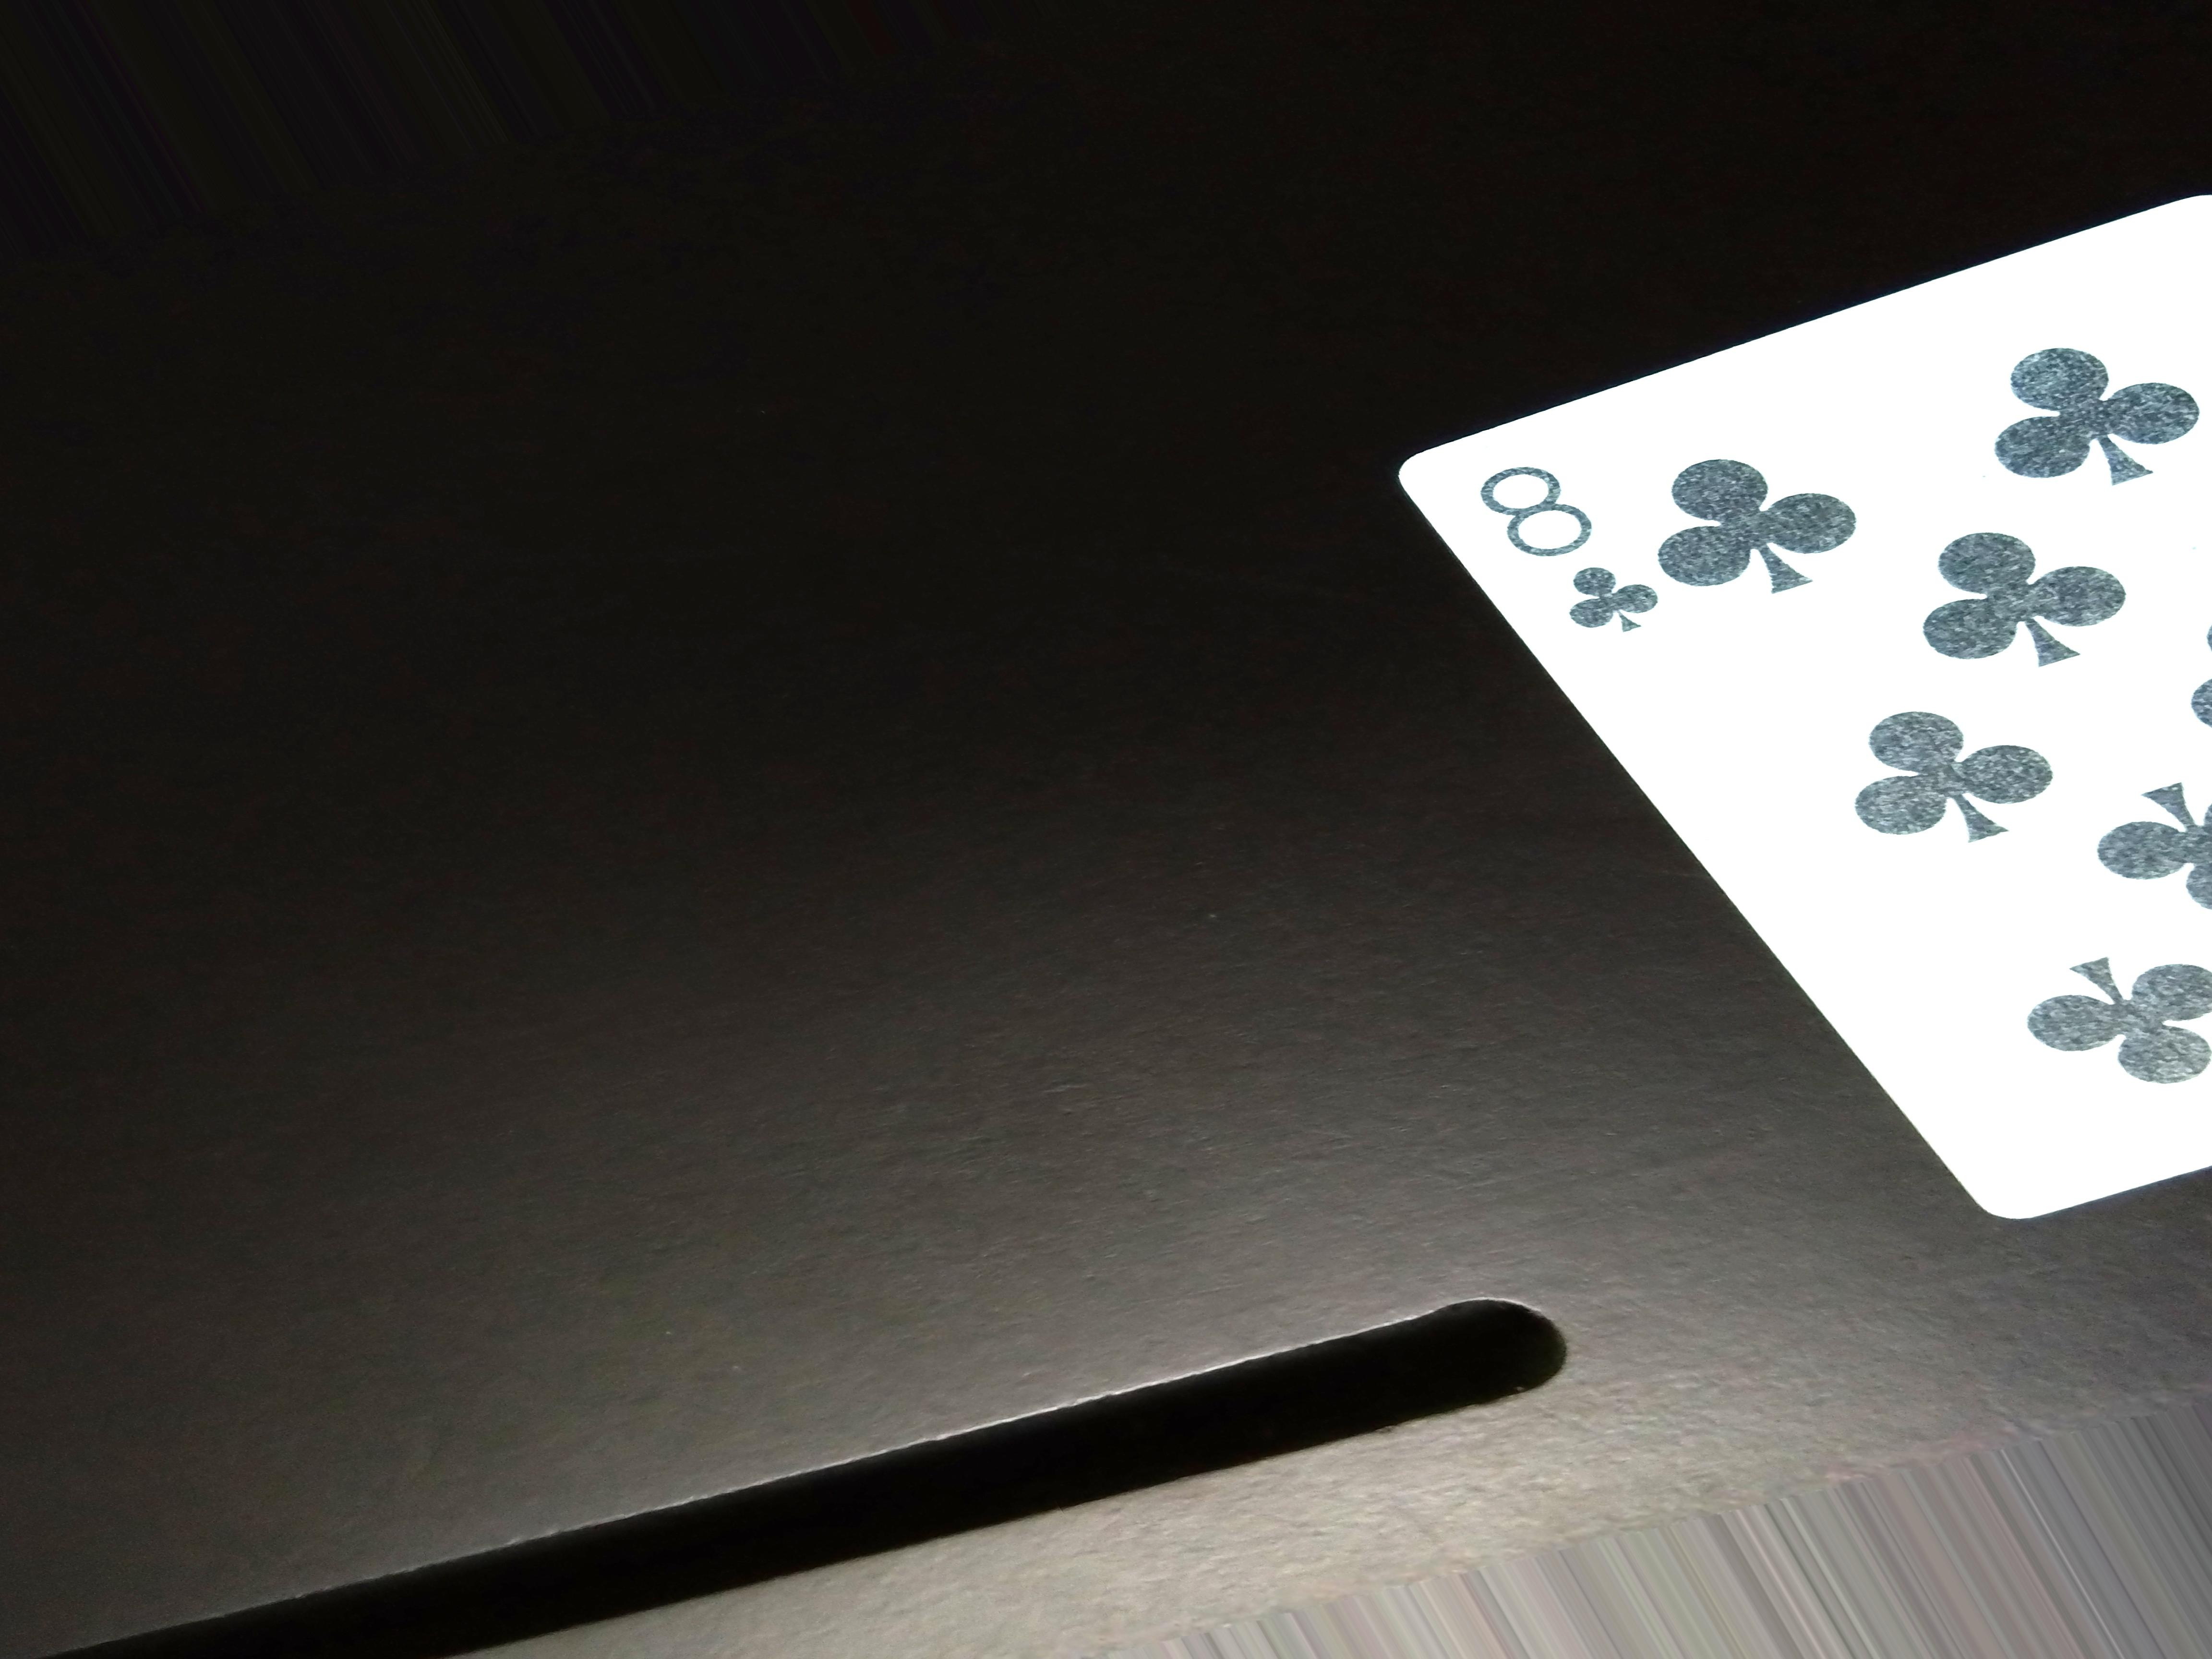8C: (1465, 458, 1677, 652)
